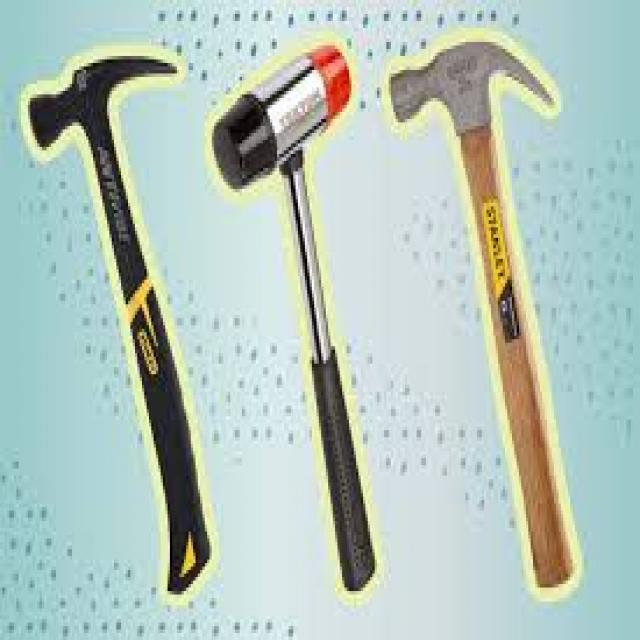hammer: (377, 28, 598, 605), (16, 29, 219, 610), (204, 34, 396, 608)
